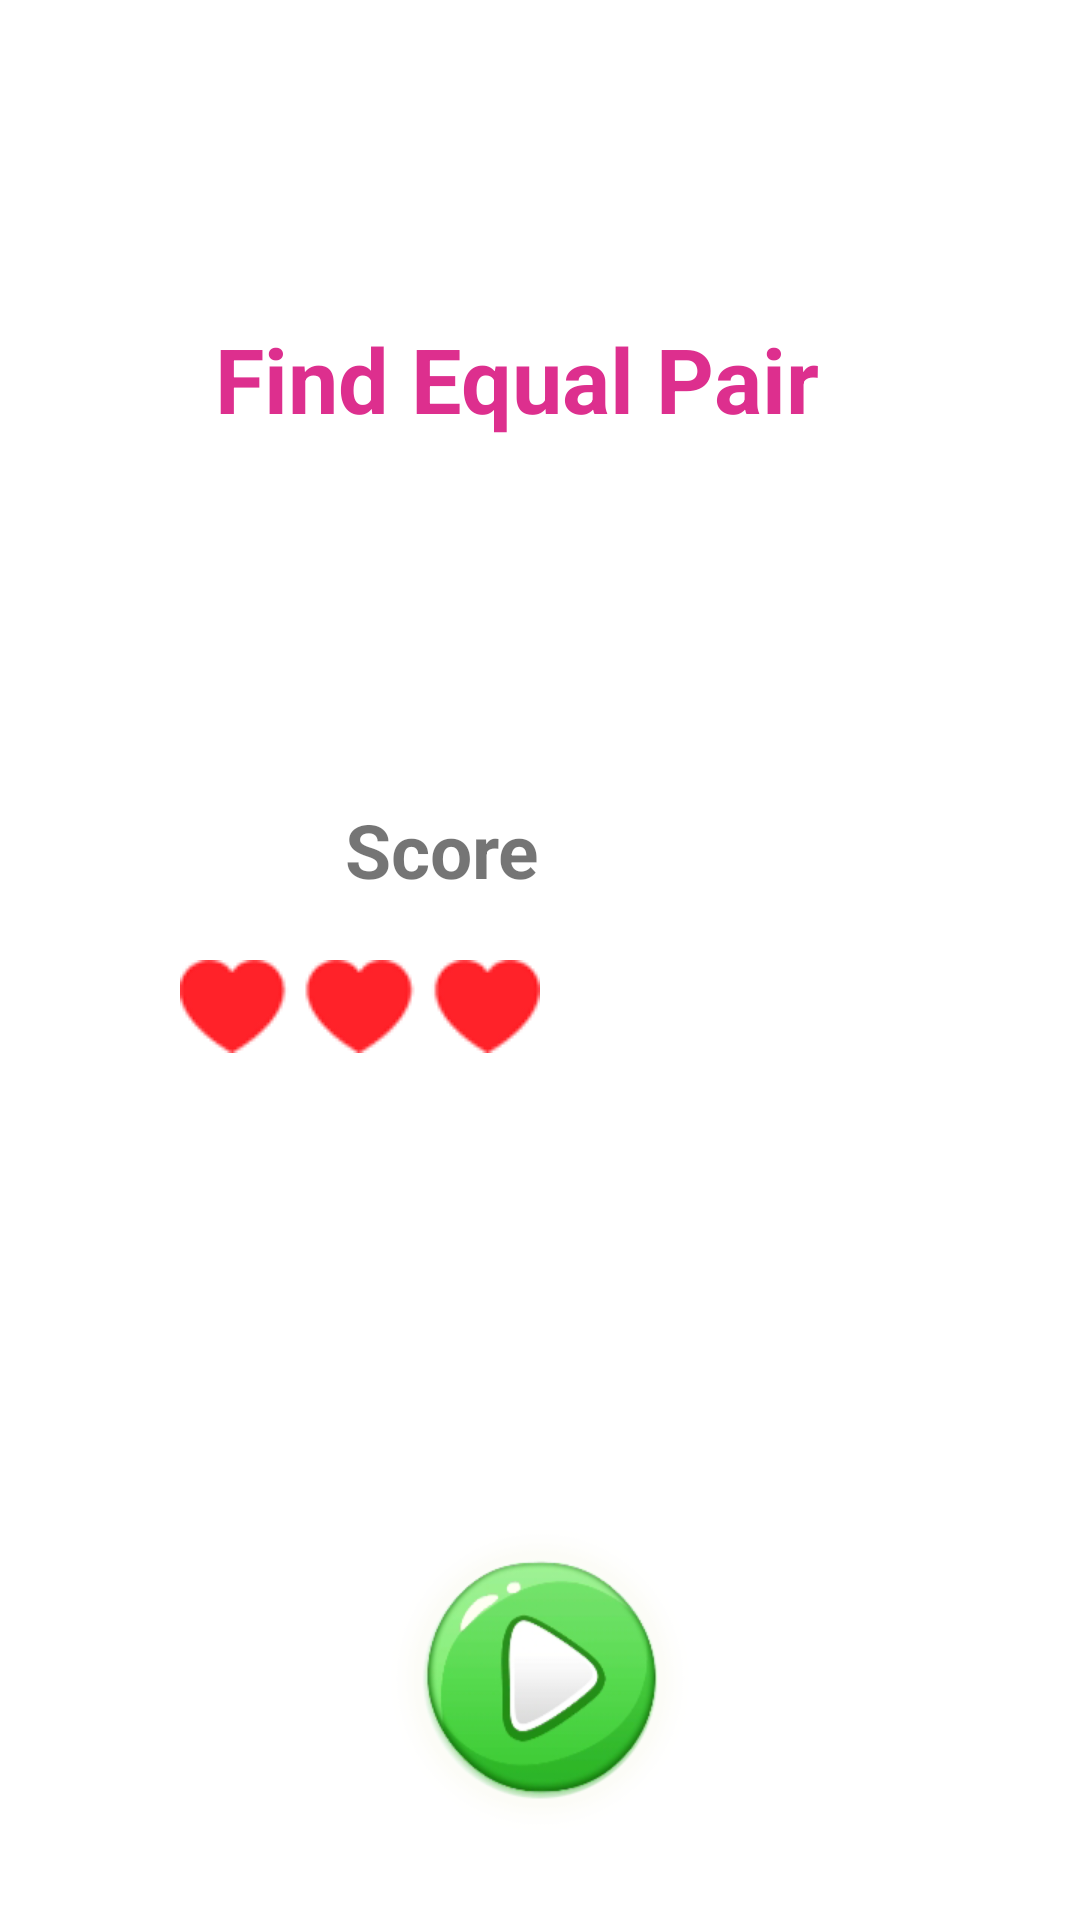

Where icons sit on this 1080w x 1920h app screen, as (x1, y1, x2, y2):
play: (424, 1561, 657, 1798)
